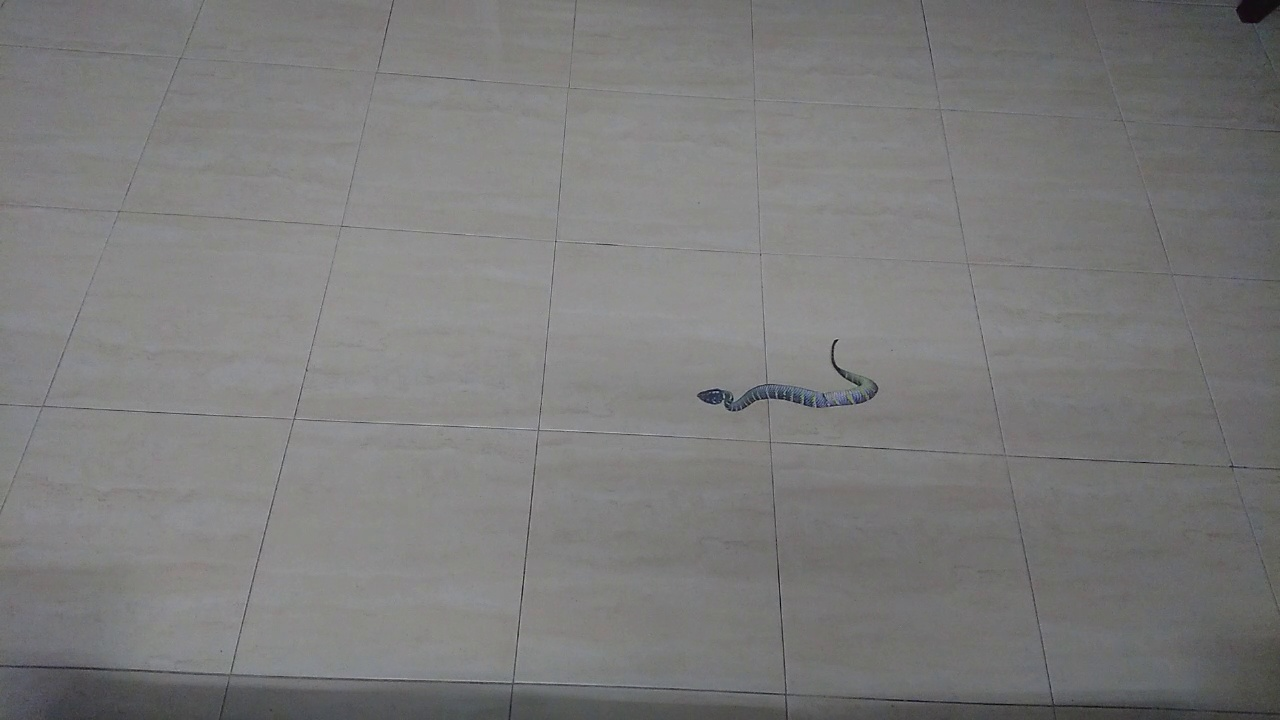snake: (683, 324, 890, 428)
